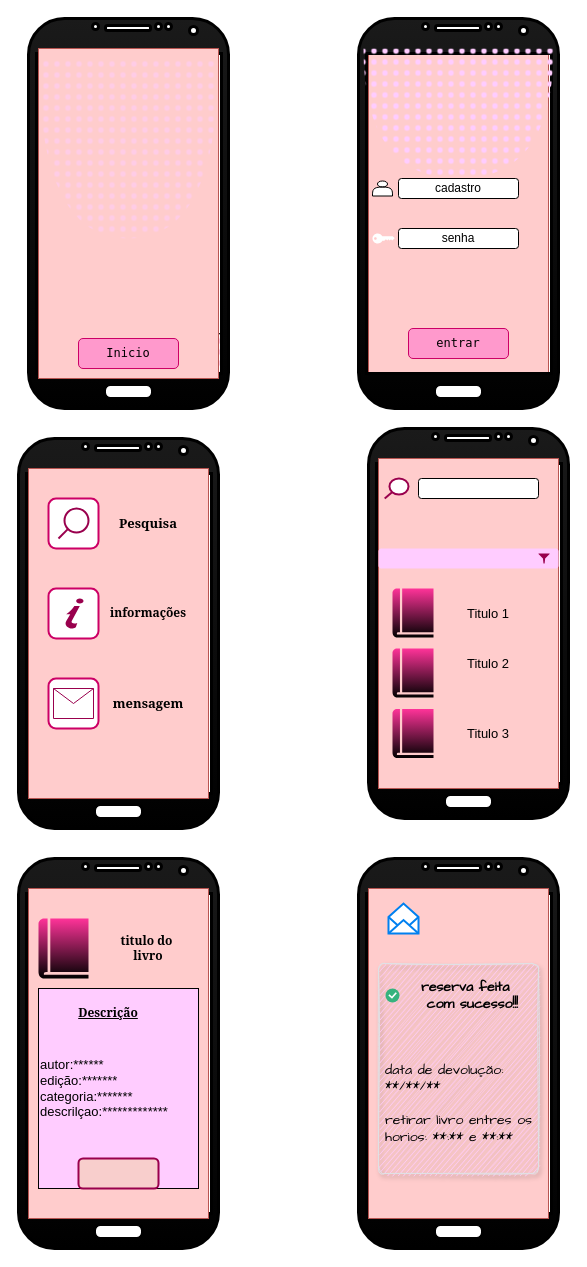
Image size: 587x1267. Some labels were removed from this diagram. Each missing label, with the centre of its shape:
Biblioteca: (x=128, y=148)
categorias: (x=468, y=558)
Reservar: (x=118, y=1173)
